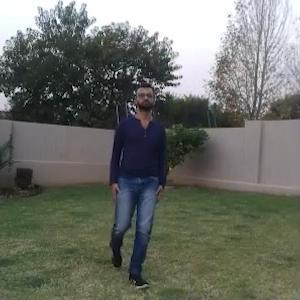follow: (108, 75, 168, 278)
